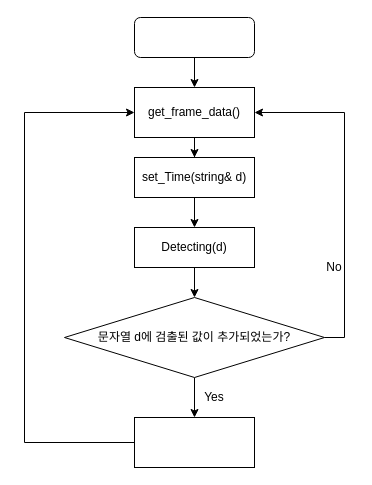
Image size: 372x485. Some labels were removed from this diagram. The centre of each missing label's shape, as x and y in pixels:
send_to_server(d): the point at 194,442
start: the point at 194,37
